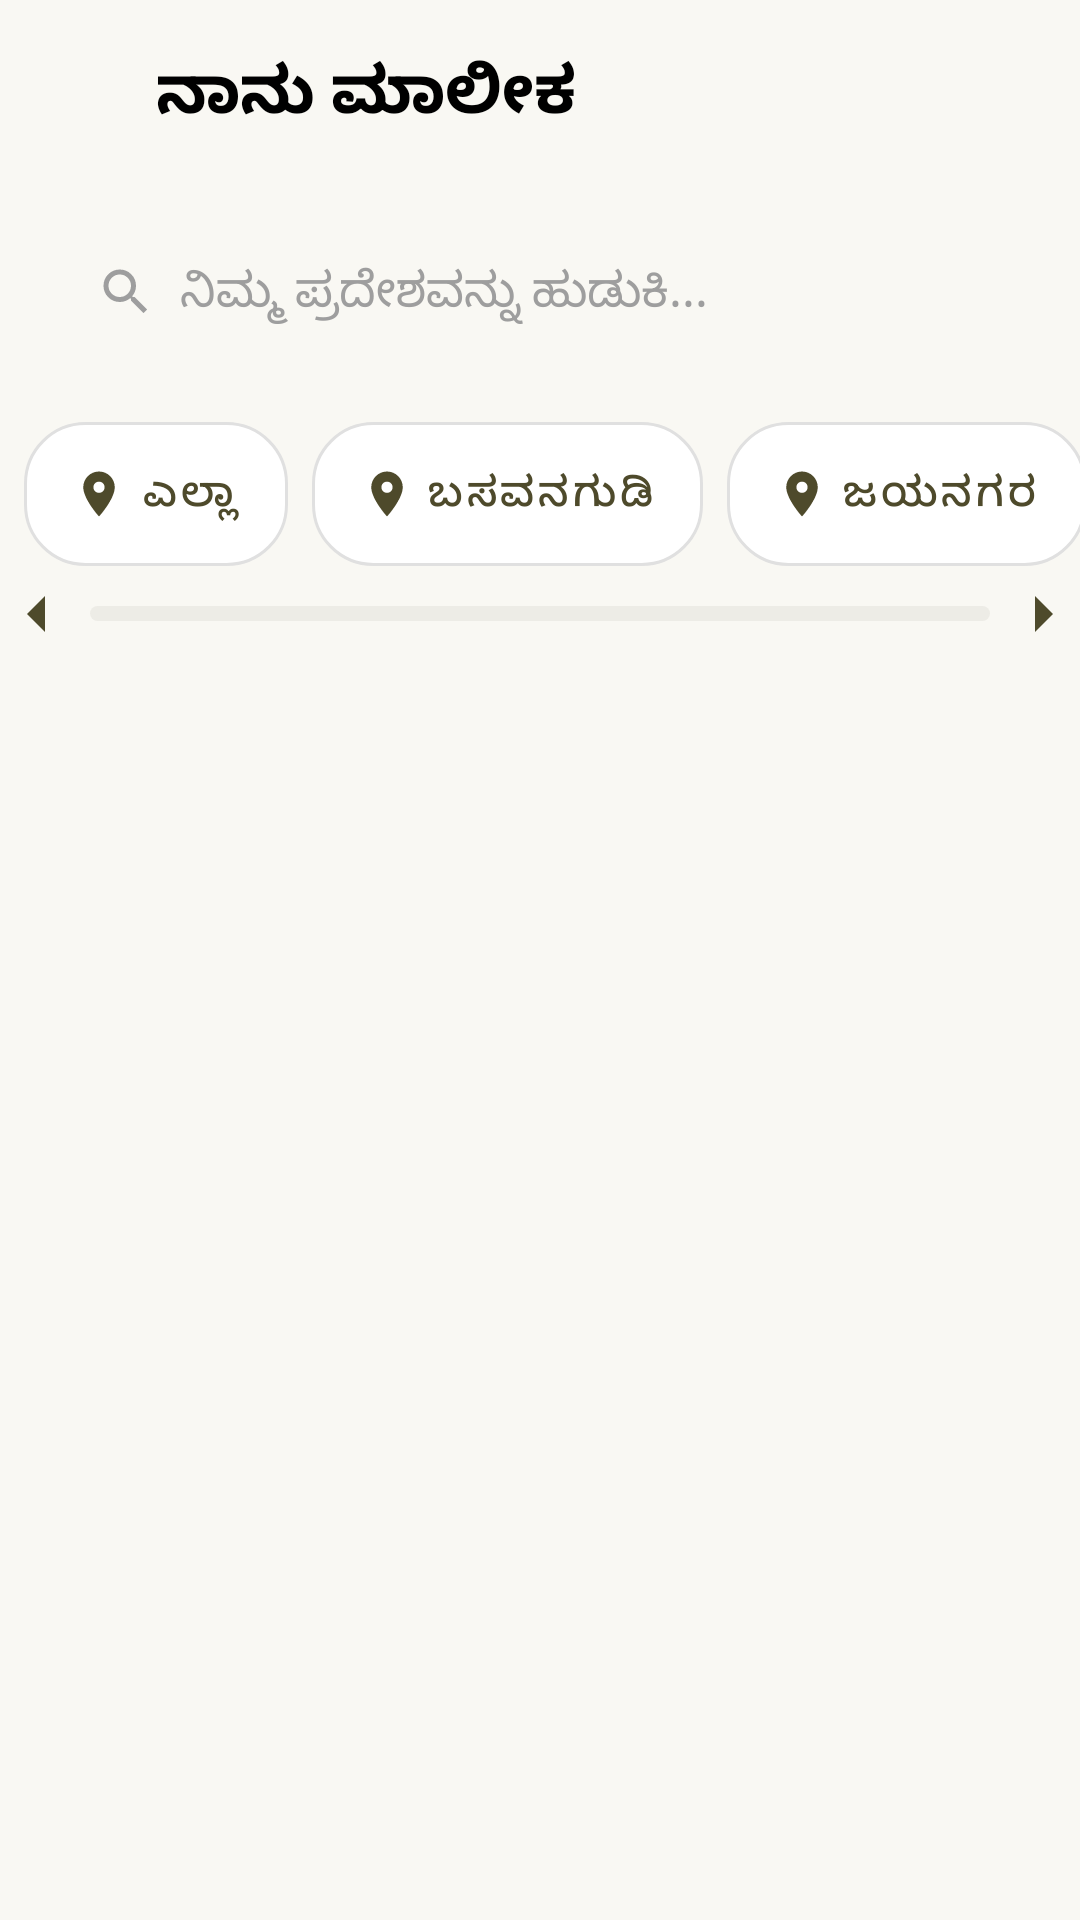

Point at icon controls on the screen. Image size 1080*1920, points as [x,y].
Search icon: [125,291]
ಎಡಕ್ಕೆ ಸರಿಸಿ: [36,614]
ಬಲಕ್ಕೆ ಸರಿಸಿ: [1044,614]
